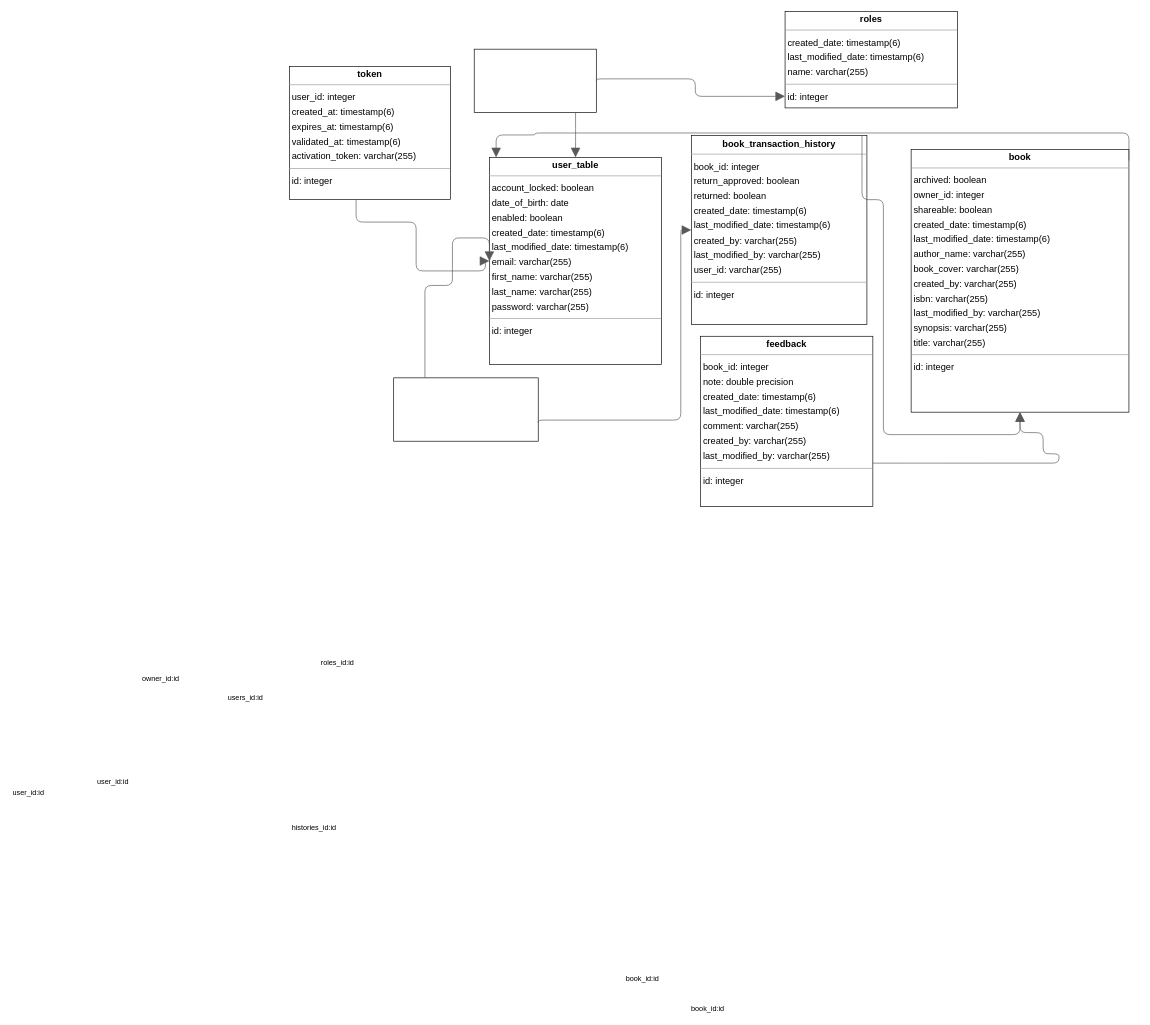
This 1150x1025 diagram has some shape labels left out. The shapes that lost their labels are listed below. From the top down, each one's centre as x and y in pixels, then its label:
pixel 535 81: user_table_roles roles_id: integer users_id: integer
pixel 465 409: user_table_histories histories_id: integer user_id: integer
